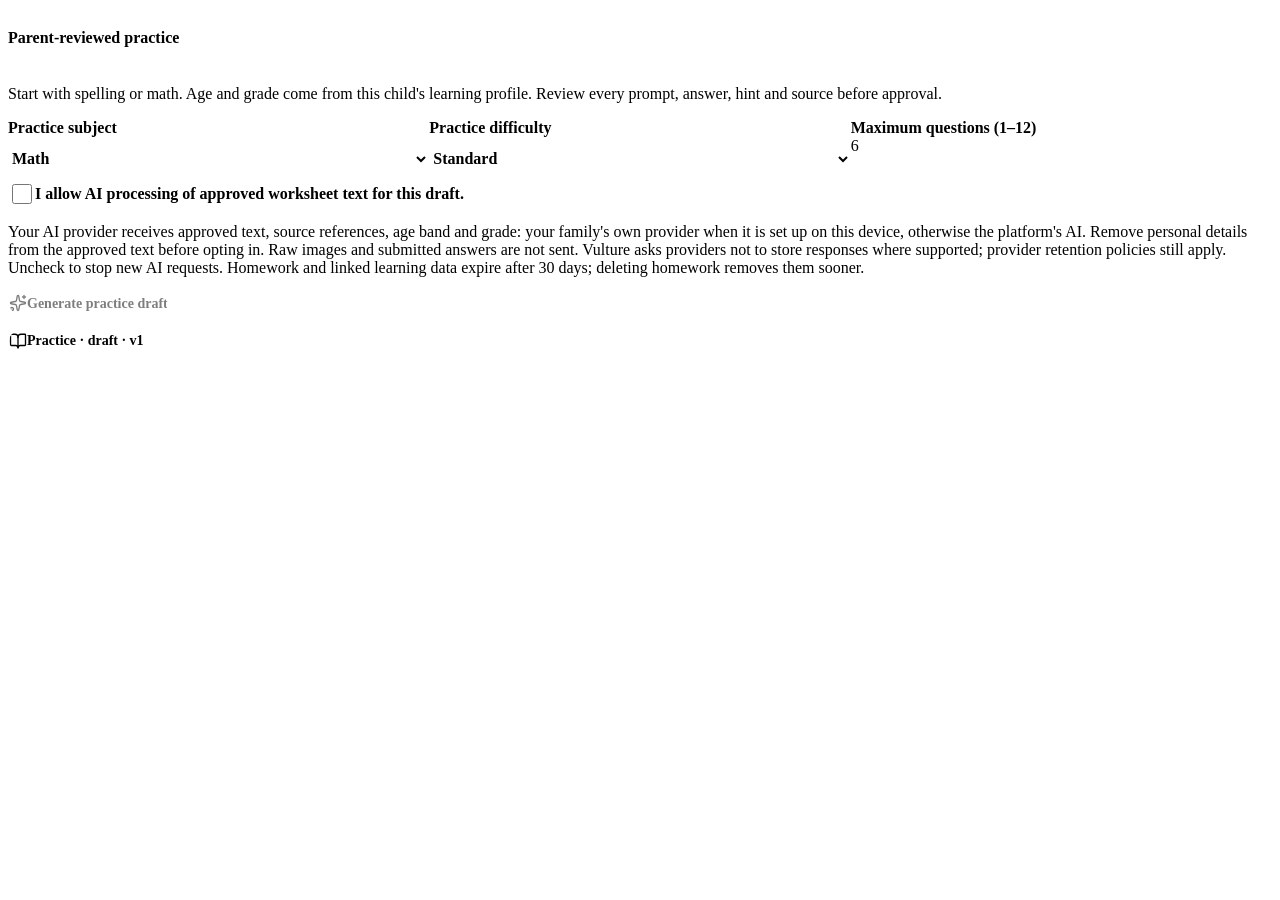
Parent practice workspace › saves title and hint corrections as a new draft before approval
Click the button "Practice · draft · v1": x=76, y=341 [8, 330, 145, 352]
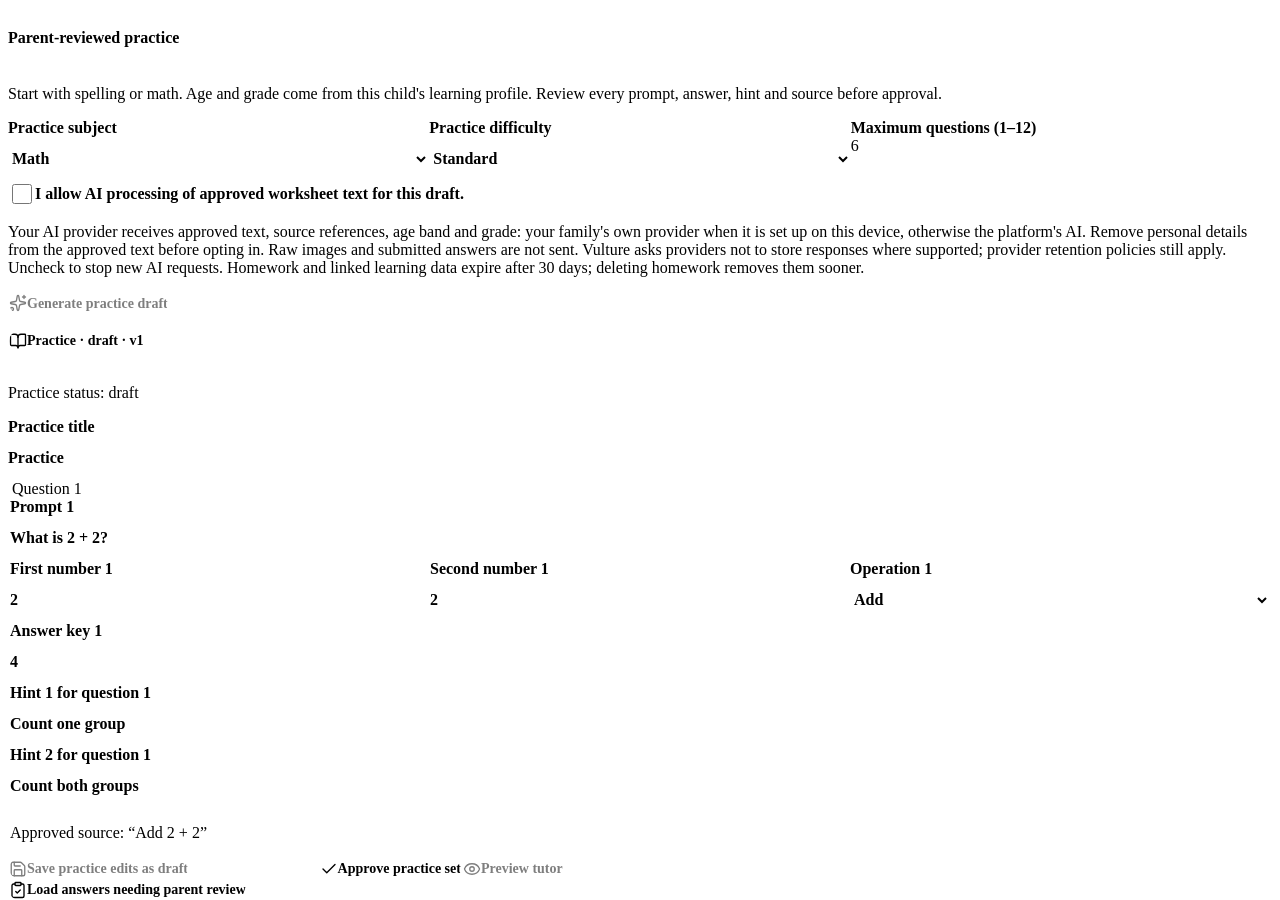
Result: the field labelled "Practice title" is enabled
Replace the text in the field labelled "Practice title" with "Corrected practice": x=640, y=458 [8, 436, 1272, 480]
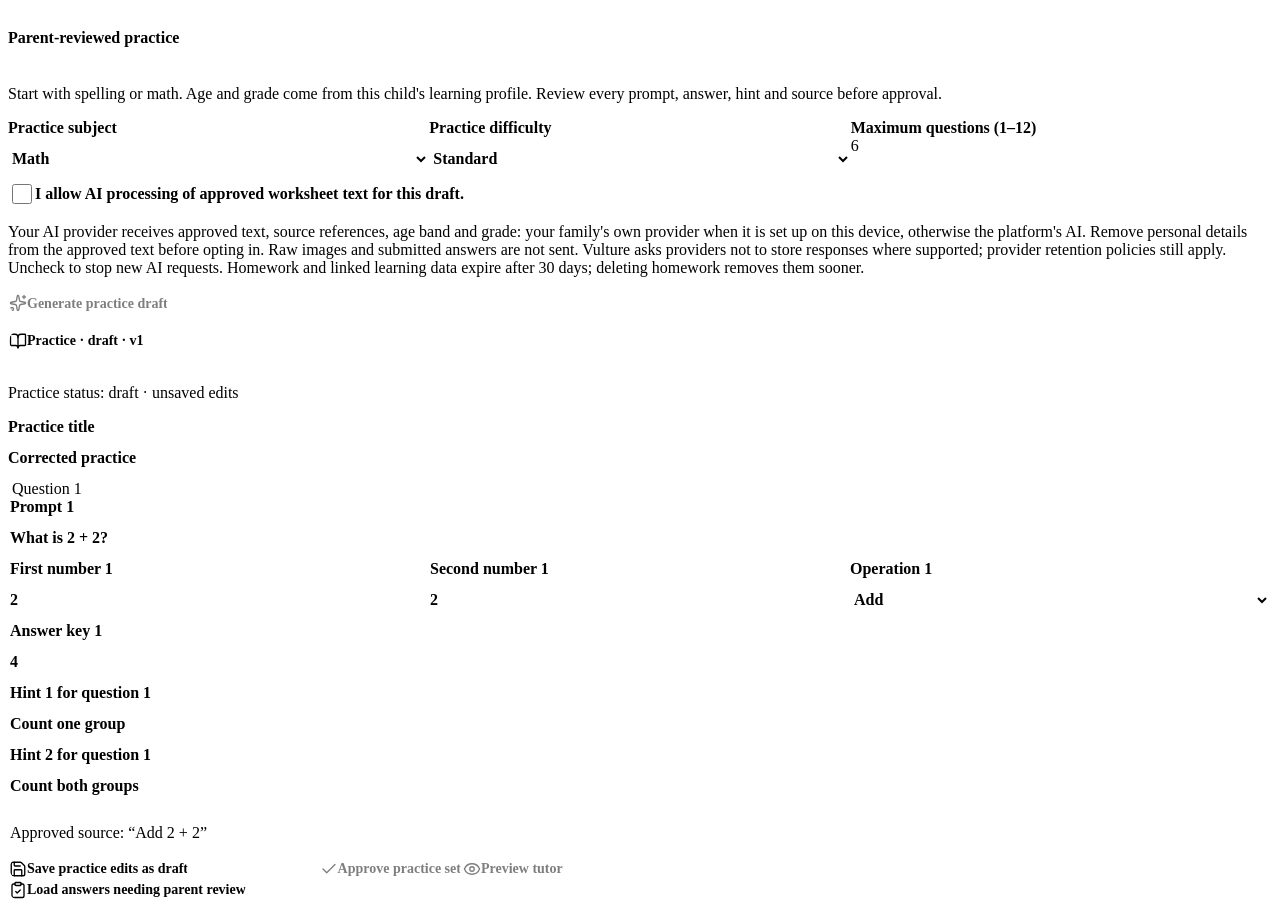
Replace the text in the field labelled "Hint 1 for question 1" with "Count each group": x=640, y=724 [10, 702, 1270, 746]
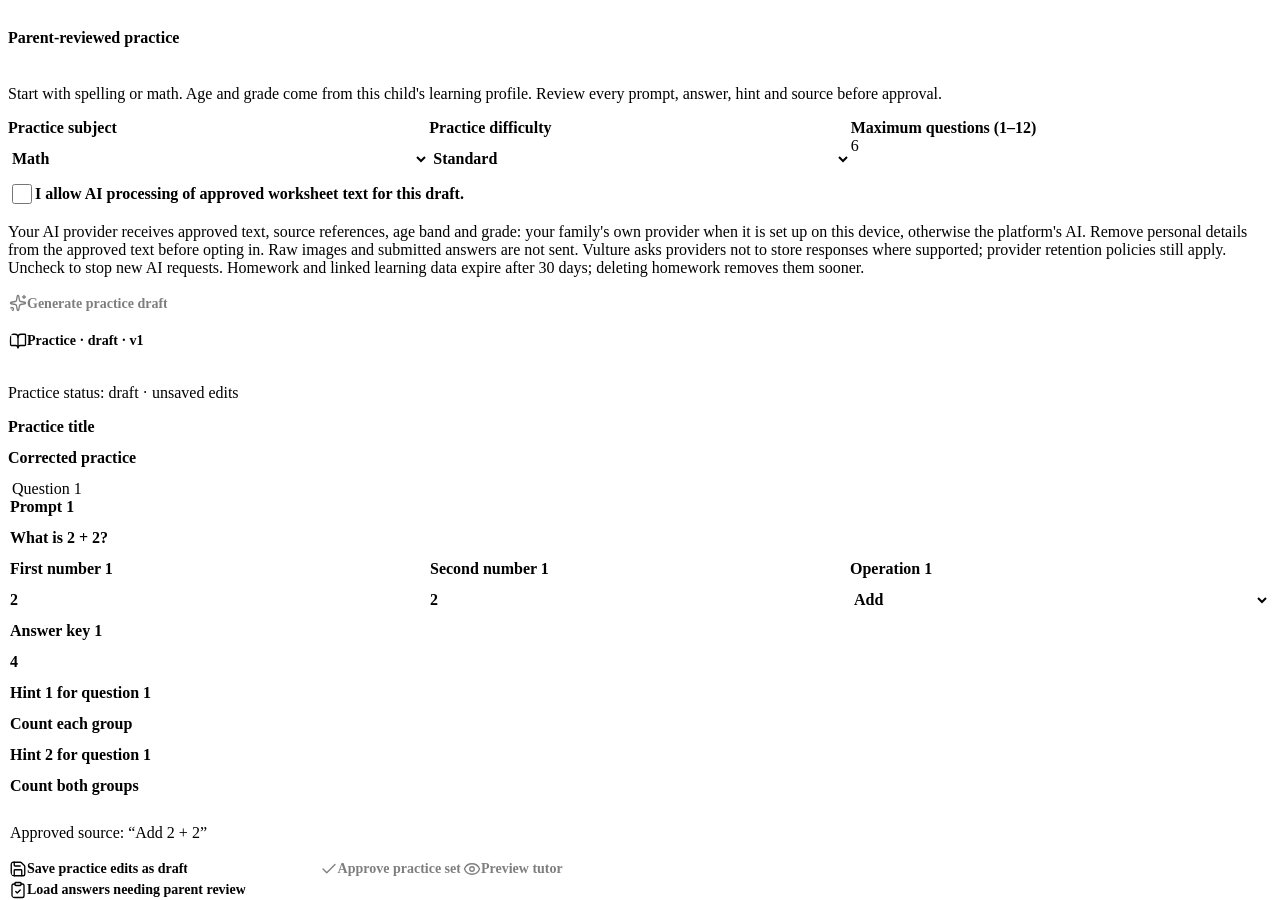
Result: the button "Approve practice set" is disabled at [319, 858, 462, 879]
Click the button "Save practice edits as draft": x=98, y=868 [8, 858, 189, 879]
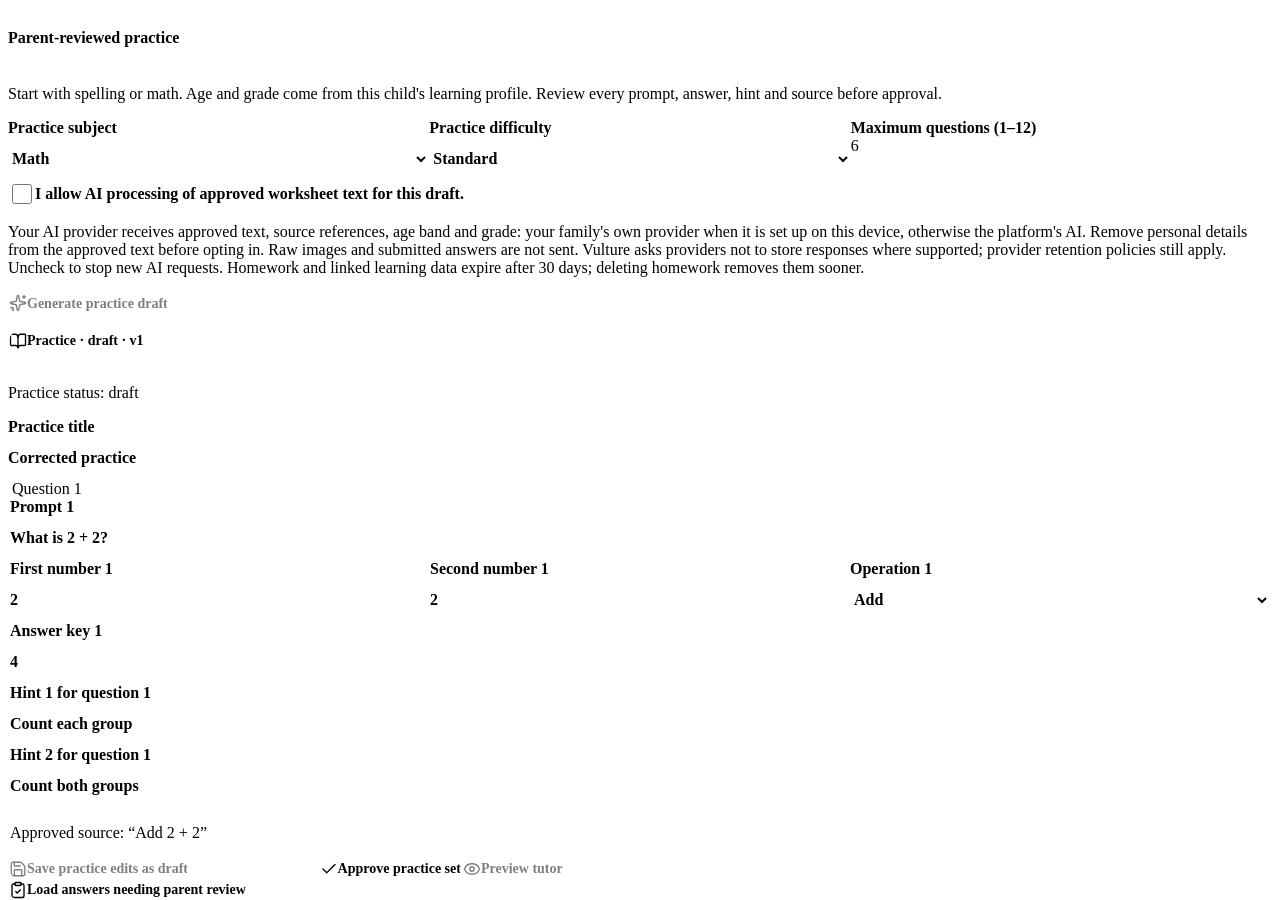
Result: the button "Approve practice set" is enabled
Click the button "Approve practice set": x=390, y=868 [319, 858, 462, 879]
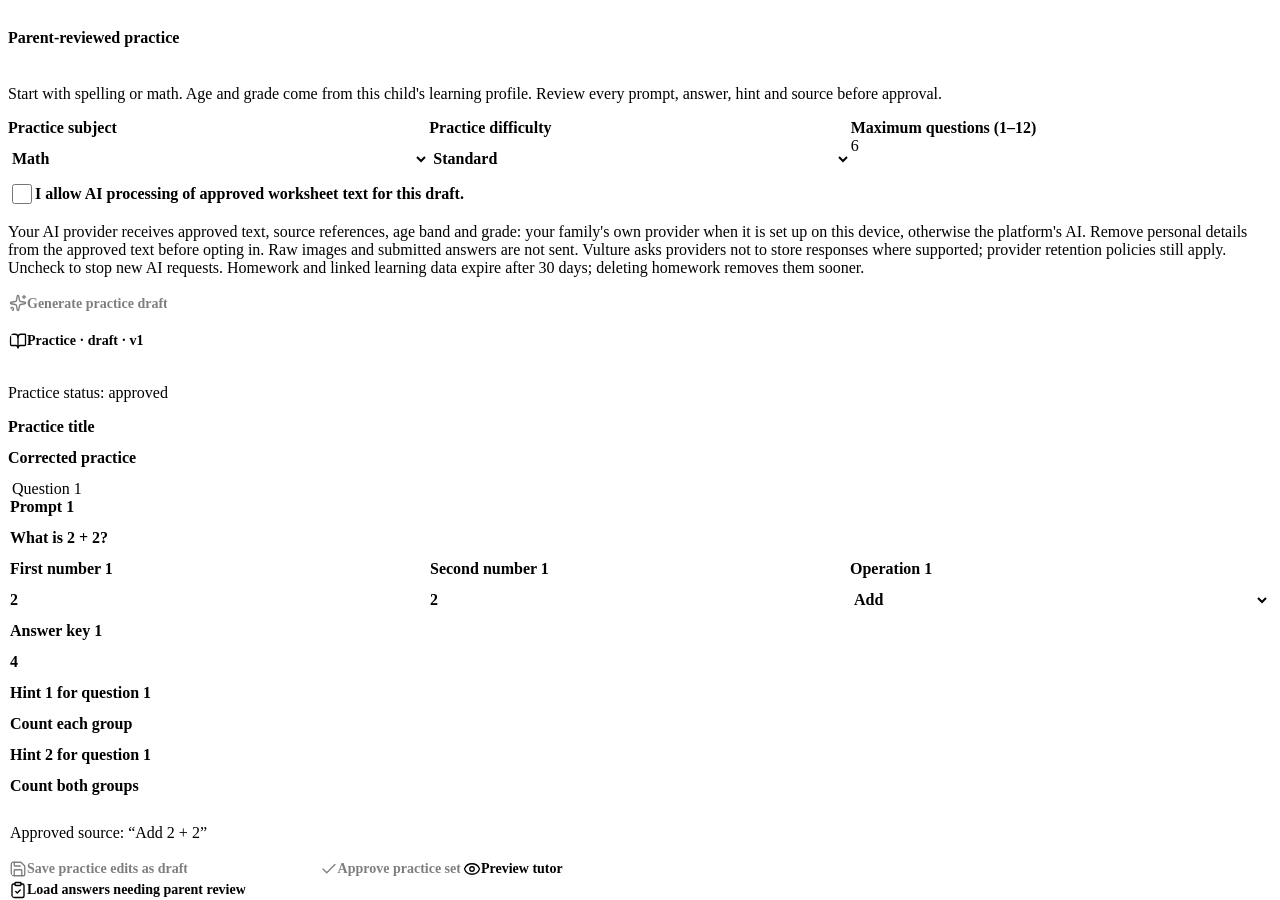
Result: the button "Preview tutor" is enabled at [462, 858, 564, 879]
